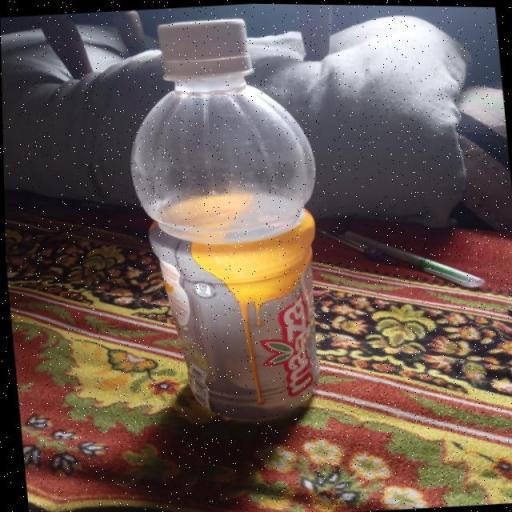plastic: (128, 18, 317, 426)
